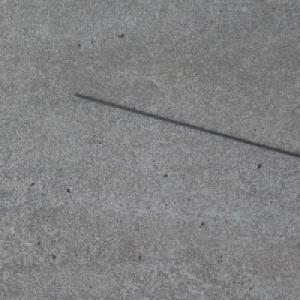LuggagePart: (73, 92, 300, 158)
